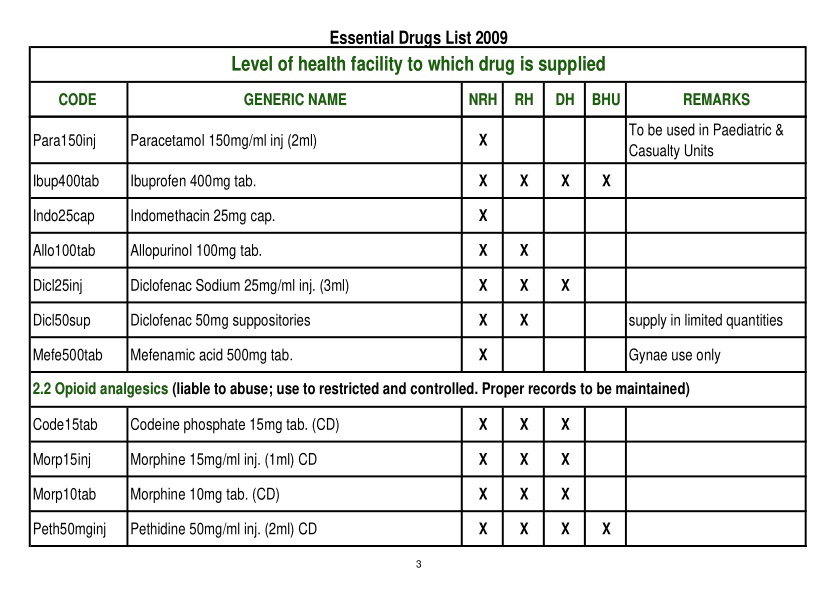merged_cells: (27, 45, 807, 548)
